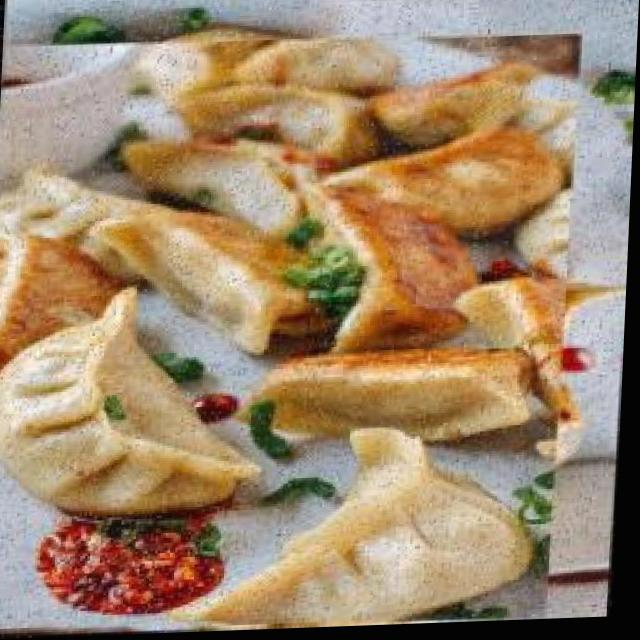fried_dumplings: (0, 28, 583, 640)
